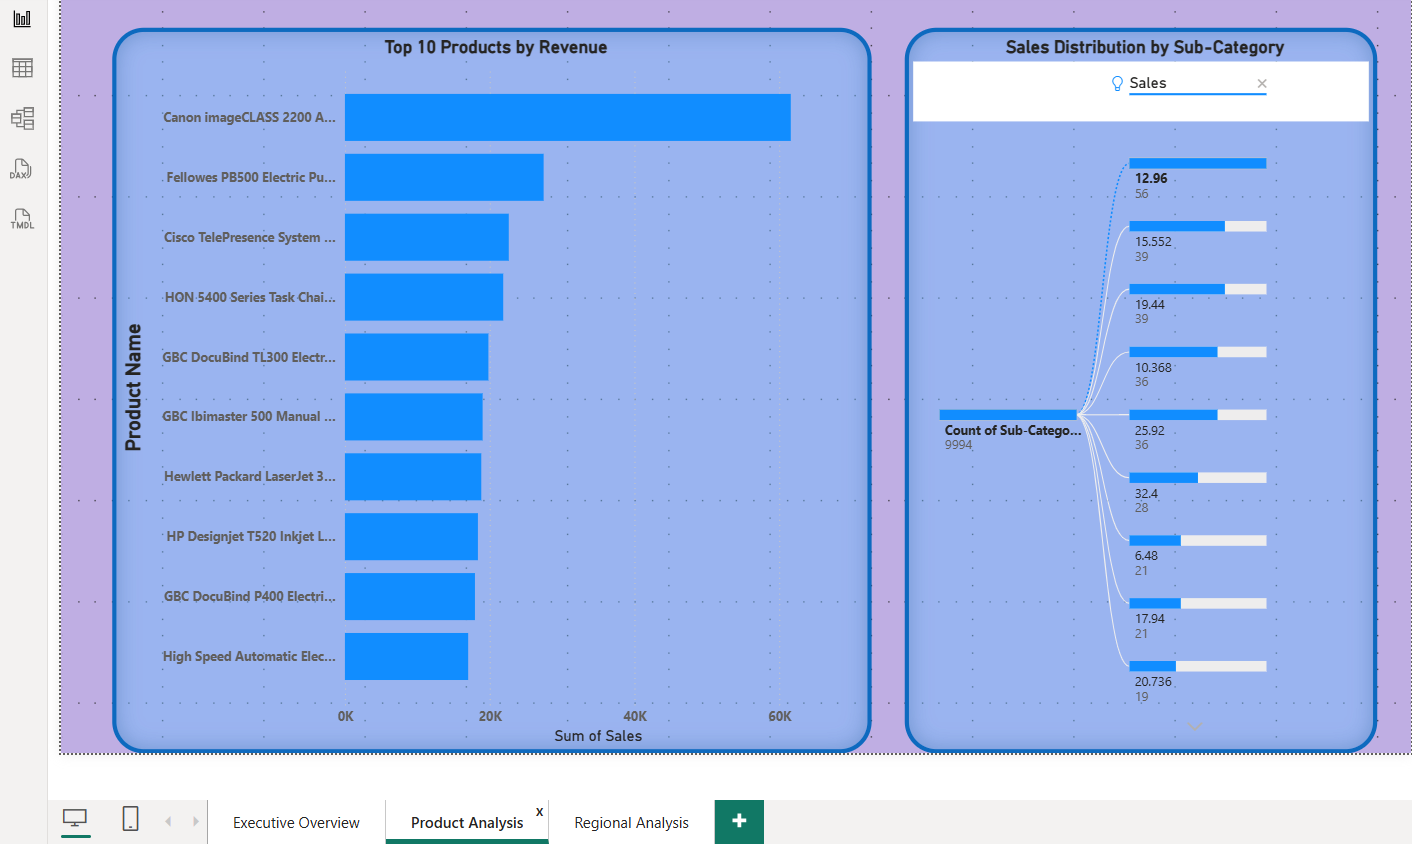

This screenshot's page, from the dashboard's own definition file:
{"tool":"powerbi","page":{"name":"Product Analysis","canvas":[1280,720],"ordinal":1},"visuals":[{"type":"clusteredBarChart","title":"Top 10 Products by Revenue","fields":{"Category":["SuperstoreCleaned.Product Name"],"Y":["Sum(SuperstoreCleaned.Sales)"]},"box":[48,32,720,688],"z":0},{"type":"decompositionTreeVisual","title":"Sales Distribution by Sub-Category","fields":{"Analyze":["CountNonNull(SuperstoreCleaned.Sub-Category)"],"ExplainBy":["SuperstoreCleaned.Sales"]},"box":[800,32,448,688],"z":1000}]}

Visuals, with their boxes in screenshot pixels (x1, y1, x2, y2):
"Top 10 Products by Revenue" clusteredBarChart: (113,30,868,752)
"Sales Distribution by Sub-Category" decompositionTreeVisual: (902,30,1372,752)
